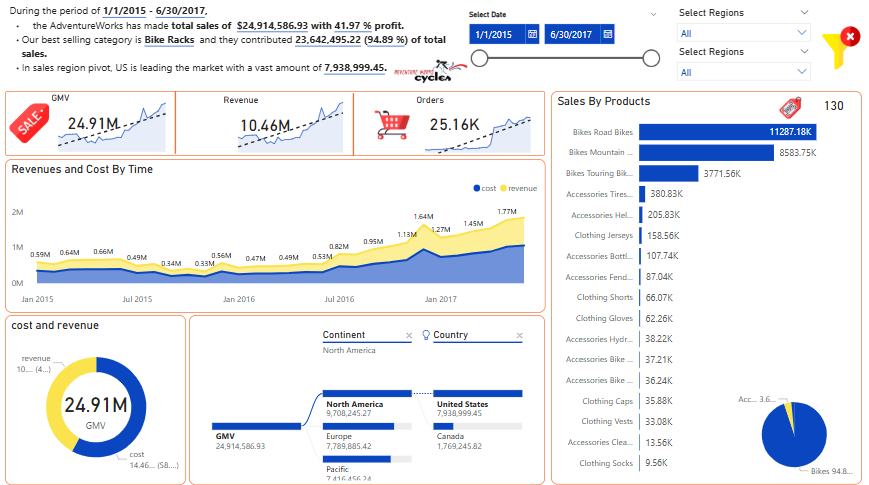

The page's visual inventory and layout, read from the dashboard file:
{"tool":"powerbi","page":{"name":"Sales Performance","canvas":[1280,720],"ordinal":1},"visuals":[{"type":"image","box":[0,0,87.3,87.3],"z":0},{"type":"textbox","box":[87.6,0,731.2,87.6],"z":1000},{"type":"shape","box":[0,80.5,819.5,7.3],"z":2000},{"type":"lineClusteredColumnComboChart","title":"Sales & Orders","fields":{"Category":["2015_sales.OrderDate.Variation.Date Hierarchy.Year","2015_sales.OrderDate.Variation.Date Hierarchy.Month"],"Y2":["Count(2015_sales.OrderNumber)"],"Y":["Sum(2015_sales.Sales)"]},"box":[12.5,348.6,775.9,357.5],"z":3000},{"type":"clusteredBarChart","title":"Sales by Products","fields":{"Category":["Products.subcategoryname"],"Y":["2015_sales.placeholder","2015_sales.total sales"]},"box":[806.3,303.9,461.2,402.2],"z":4000},{"type":"shape","box":[12.5,110.8,261,227],"z":5000},{"type":"shape","box":[287.8,110.8,253.9,227],"z":6000},{"type":"image","box":[25.7,119.1,81.8,84.1],"z":7000},{"type":"image","box":[305.7,119.8,87.6,84],"z":8000},{"type":"card","title":"Total Orders","fields":{"Values":["Count(2015_sales.OrderNumber)"]},"box":[387.4,119.1,142.6,85],"z":9000},{"type":"slicer","fields":{"Values":["Territories.Country"]},"box":[791.7,115.6,202,64.4],"z":10000},{"type":"slicer","fields":{"Values":["Products.categoryname"]},"box":[993.7,115.6,177.1,64.4],"z":11000},{"type":"shape","box":[1172.7,143,94.7,32.2],"z":12000},{"type":"card","title":"Total Sales","fields":{"Values":["2015_sales.total sales"]},"box":[106.8,118.5,143.4,83.4],"z":17000},{"type":"advancedSlicerVisual","fields":{"Values":["2015_sales.OrderDate.Variation.Date Hierarchy.Year"]},"box":[904.4,43.9,354.1,43.9],"z":18000},{"type":"card","fields":{"Values":["2015_sales.Lysales"]},"box":[157.5,251.7,86.4,32.7],"z":19000},{"type":"card","fields":{"Values":["Sum(2015_sales.Sales)"]},"box":[155.2,209.7,88.8,42],"z":20000},{"type":"card","fields":{"Values":["2015_sales.▲delta"]},"box":[146.6,286,98.3,34],"z":21000},{"type":"textbox","box":[29.1,209.7,121.5,42],"z":22000},{"type":"textbox","box":[33.7,247,112.1,42],"z":23000},{"type":"textbox","box":[33.8,285.8,112.1,35],"z":24000},{"type":"card","fields":{"Values":["2015_sales.LyOrders"]},"box":[437.2,252.6,86.4,32.7],"z":25000},{"type":"card","fields":{"Values":["Count(2015_sales.OrderNumber)"]},"box":[438,210.9,85.8,41.1],"z":26000},{"type":"card","fields":{"Values":["2015_sales.▲delta_orders"]},"box":[425.5,286,98.3,35.8],"z":27000},{"type":"textbox","box":[308.8,210.6,121.5,42],"z":28000},{"type":"textbox","box":[313.4,247.9,112.1,42],"z":29000},{"type":"textbox","box":[313.5,286.7,112.1,35],"z":30000},{"type":"waterfallChart","title":"Sales Growth%","fields":{"Category":["2015_sales.OrderDate.Variation.Date Hierarchy.Year"],"Y":["Products.Sales Growth%"]},"box":[557.8,110.8,230.6,227],"z":31000},{"type":"enlightenWaffleChartC94C0BDE416B413A8071A92B5E75A718","title":"Product Sales","fields":{"measure":["2015_sales.total sales"],"group":["2015_sales.product_div"]},"box":[806.3,202,196.6,101.9],"z":32000},{"type":"slicer","fields":{"Values":["Parameter.Parameter"]},"box":[1045.8,223.5,191.3,80.4],"z":33000},{"type":"shape","box":[790.2,202,13.2,504.9],"z":33001},{"type":"shape","box":[796.1,191.7,474.1,13.2],"z":33002},{"type":"textbox","box":[892.1,266.4,110.8,37.5],"z":33003}]}

Visuals, with their boxes in screenshot pixels (x1, y1, x2, y2), scaled from the page's 1280x720 canvas onto the 869x485 screenshot:
image: crop(0, 0, 59, 59)
textbox: crop(59, 0, 556, 59)
shape: crop(0, 54, 556, 59)
"Sales & Orders" lineClusteredColumnComboChart: crop(8, 235, 535, 476)
"Sales by Products" clusteredBarChart: crop(547, 205, 861, 476)
shape: crop(8, 75, 186, 228)
shape: crop(195, 75, 368, 228)
image: crop(17, 80, 73, 137)
image: crop(208, 81, 267, 137)
"Total Orders" card: crop(263, 80, 360, 137)
slicer - Territories.Country: crop(537, 78, 675, 121)
slicer - Products.categoryname: crop(675, 78, 795, 121)
shape: crop(796, 96, 860, 118)
"Total Sales" card: crop(73, 80, 170, 136)
advancedSlicerVisual - 2015_sales.OrderDate.Variation.Date Hierarchy.Year: crop(614, 30, 854, 59)
card - 2015_sales.Lysales: crop(107, 170, 166, 192)
card - Sum(2015_sales.Sales): crop(105, 141, 166, 170)
card - 2015_sales.▲delta: crop(100, 193, 166, 216)
textbox: crop(20, 141, 102, 170)
textbox: crop(23, 166, 99, 195)
textbox: crop(23, 193, 99, 216)
card - 2015_sales.LyOrders: crop(297, 170, 355, 192)
card - Count(2015_sales.OrderNumber): crop(297, 142, 356, 170)
card - 2015_sales.▲delta_orders: crop(289, 193, 356, 217)
textbox: crop(210, 142, 292, 170)
textbox: crop(213, 167, 289, 195)
textbox: crop(213, 193, 289, 217)
"Sales Growth%" waterfallChart: crop(379, 75, 535, 228)
"Product Sales" enlightenWaffleChartC94C0BDE416B413A8071A92B5E75A718: crop(547, 136, 681, 205)
slicer - Parameter.Parameter: crop(710, 151, 840, 205)
shape: crop(536, 136, 545, 476)
shape: crop(540, 129, 862, 138)
textbox: crop(606, 179, 681, 205)
